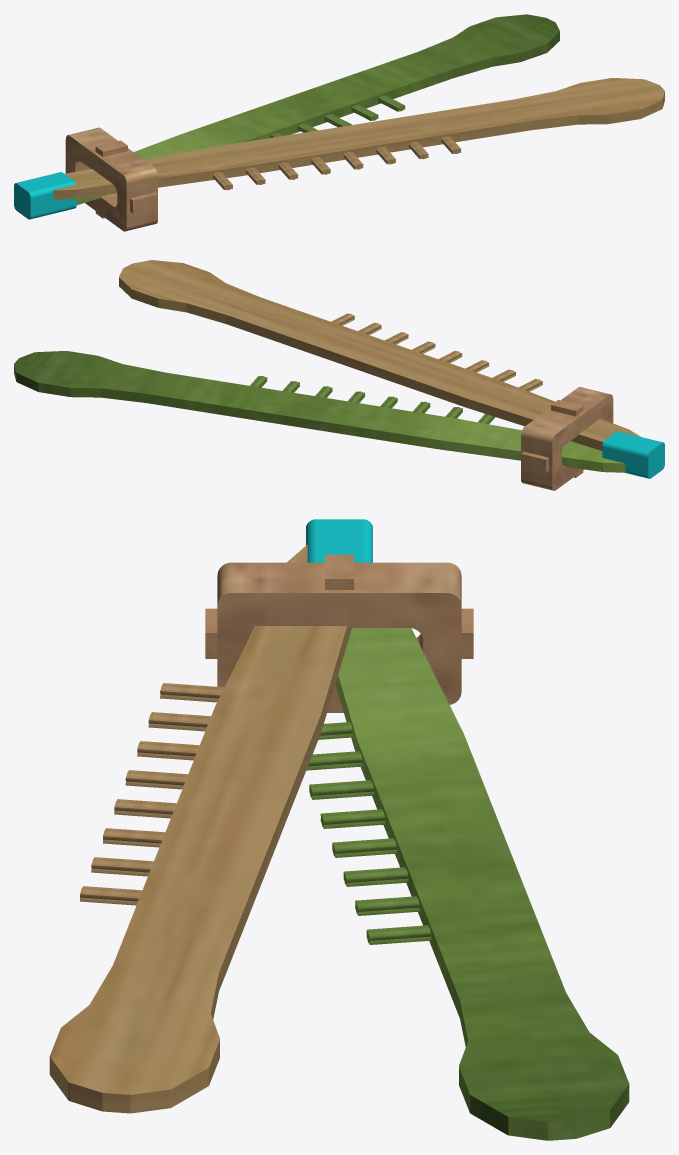
The model's file is Handtools_wooden_tongs__0017.glb.
3 renders of one model, top to bottom at view 1: azimuth 30°, elevation 25°; view 2: azimuth 150°, elevation 25°; view 3: azimuth 270°, elevation 25°, orthographic. The views are drawn at different scales.
Parts seen in each view (by area): view 1: moving_arm::arm_strip_1, fixed_arm::arm_strip_0, slide_ring::ring_band, fixed_arm::spring_clip, slide_ring::grip_3, slide_ring::grip_0; view 2: fixed_arm::arm_strip_0, moving_arm::arm_strip_1, slide_ring::ring_band, fixed_arm::spring_clip, slide_ring::grip_2, slide_ring::grip_0; view 3: fixed_arm::arm_strip_0, moving_arm::arm_strip_1, slide_ring::ring_band, fixed_arm::spring_clip, slide_ring::grip_0.
Boxes of the visible parts, x1,y1,x2,y2 form: moving_arm::arm_strip_1: (52, 78, 664, 199); fixed_arm::arm_strip_0: (76, 14, 559, 205); slide_ring::ring_band: (65, 127, 157, 231); fixed_arm::spring_clip: (14, 172, 76, 219); slide_ring::grip_3: (130, 192, 157, 213); slide_ring::grip_0: (95, 140, 127, 156); fixed_arm::arm_strip_0: (14, 351, 626, 472); moving_arm::arm_strip_1: (119, 260, 640, 450); slide_ring::ring_band: (521, 387, 613, 490); fixed_arm::spring_clip: (602, 431, 664, 478); slide_ring::grip_2: (521, 451, 548, 472); slide_ring::grip_0: (551, 399, 583, 416); fixed_arm::arm_strip_0: (335, 628, 629, 1140); moving_arm::arm_strip_1: (49, 544, 351, 1113); slide_ring::ring_band: (217, 562, 461, 705); fixed_arm::spring_clip: (306, 519, 372, 562); slide_ring::grip_0: (325, 554, 353, 589).
Bounding box in the file's own units: 0.2812 × 0.0307 × 0.1205.
4 materials, 3 textured.
